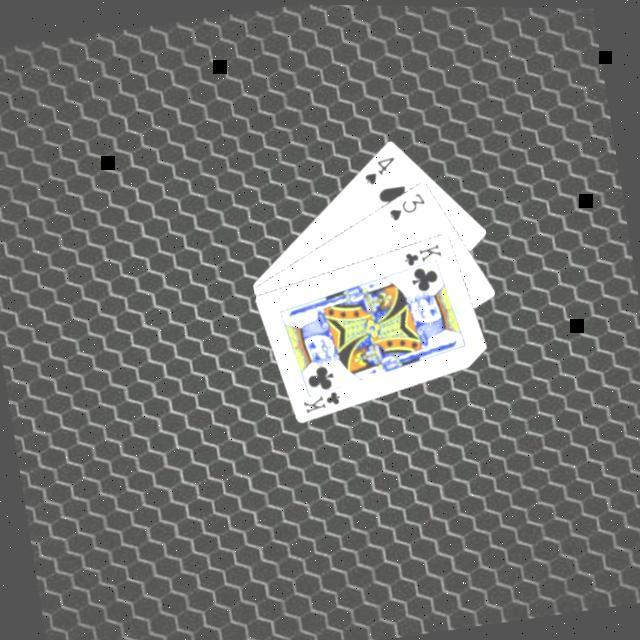3S: (383, 187, 429, 224)
4S: (358, 152, 401, 188)
KC: (396, 239, 446, 276), (298, 381, 348, 418)
